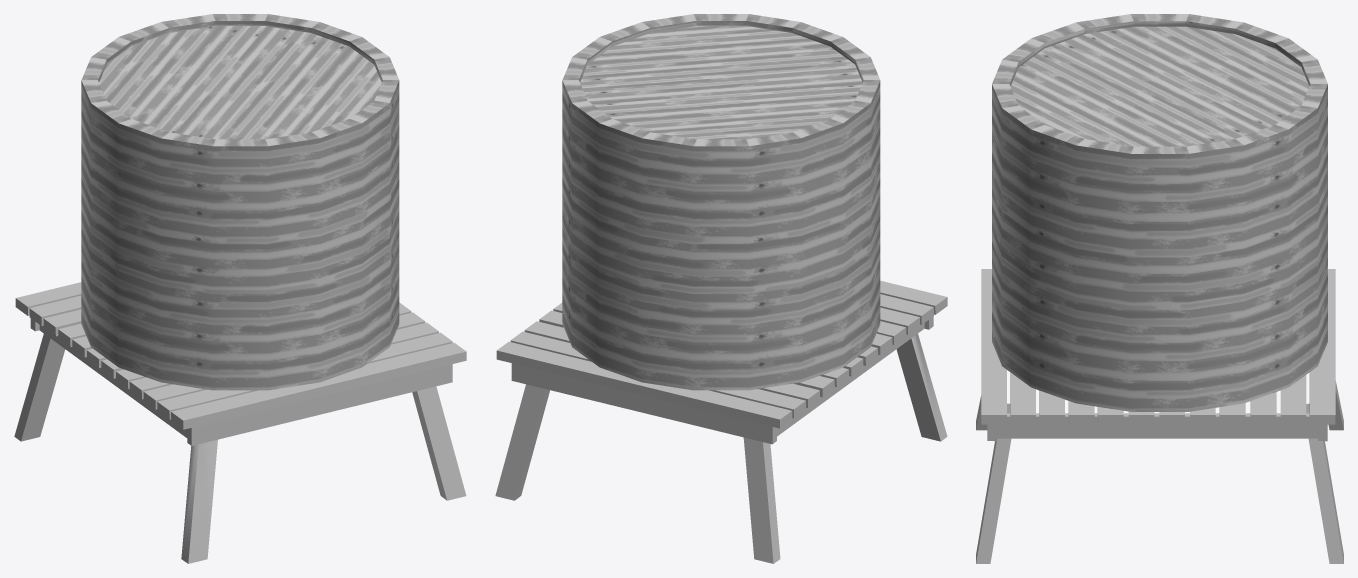
The model's file is WaterTankHand.fbx.
3 renders of one model, left to right at view 1: azimuth 30°, elevation 25°; view 2: azimuth 150°, elevation 25°; view 3: azimuth 270°, elevation 25°, orthographic. The views are drawn at different scales.
Visible parts, largest first — view 1: WaterTank (1); view 2: WaterTank (1); view 3: WaterTank (1).
Part boxes in pixels (x1,y1,x2,y2): WaterTank (1): (14, 14, 466, 563); WaterTank (1): (495, 14, 947, 563); WaterTank (1): (976, 14, 1343, 563).
Size of the model in its own units: 0.5819 by 0.7579 by 0.6187.
